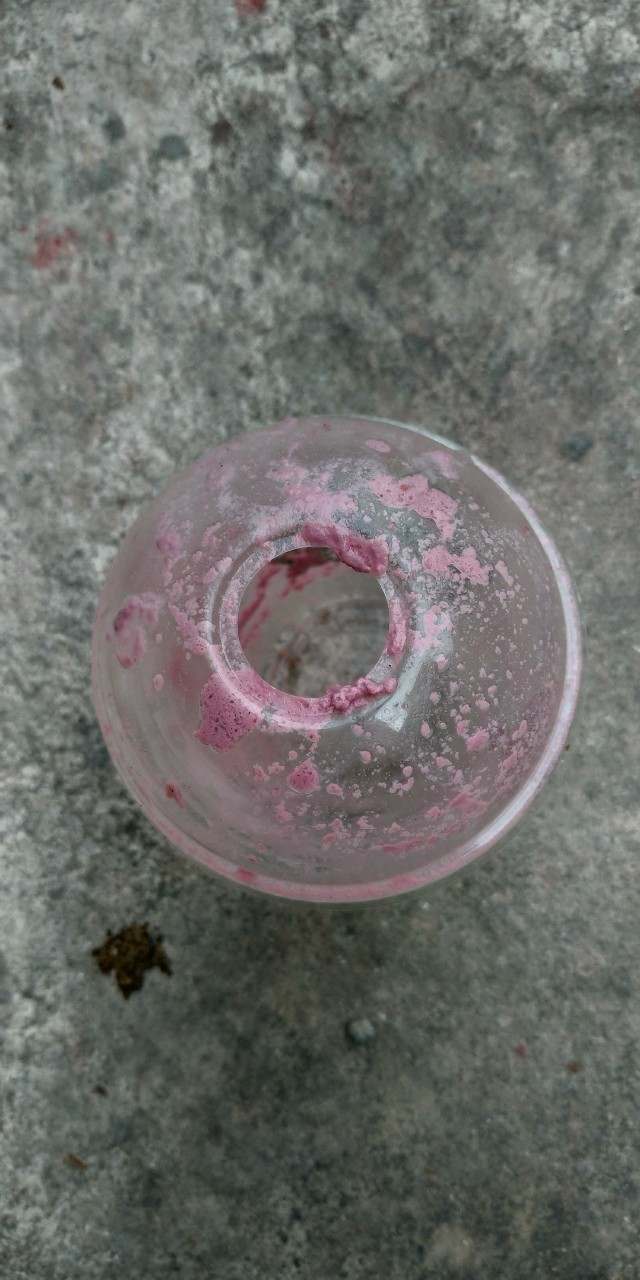PlasticCup: (91, 406, 584, 910)
